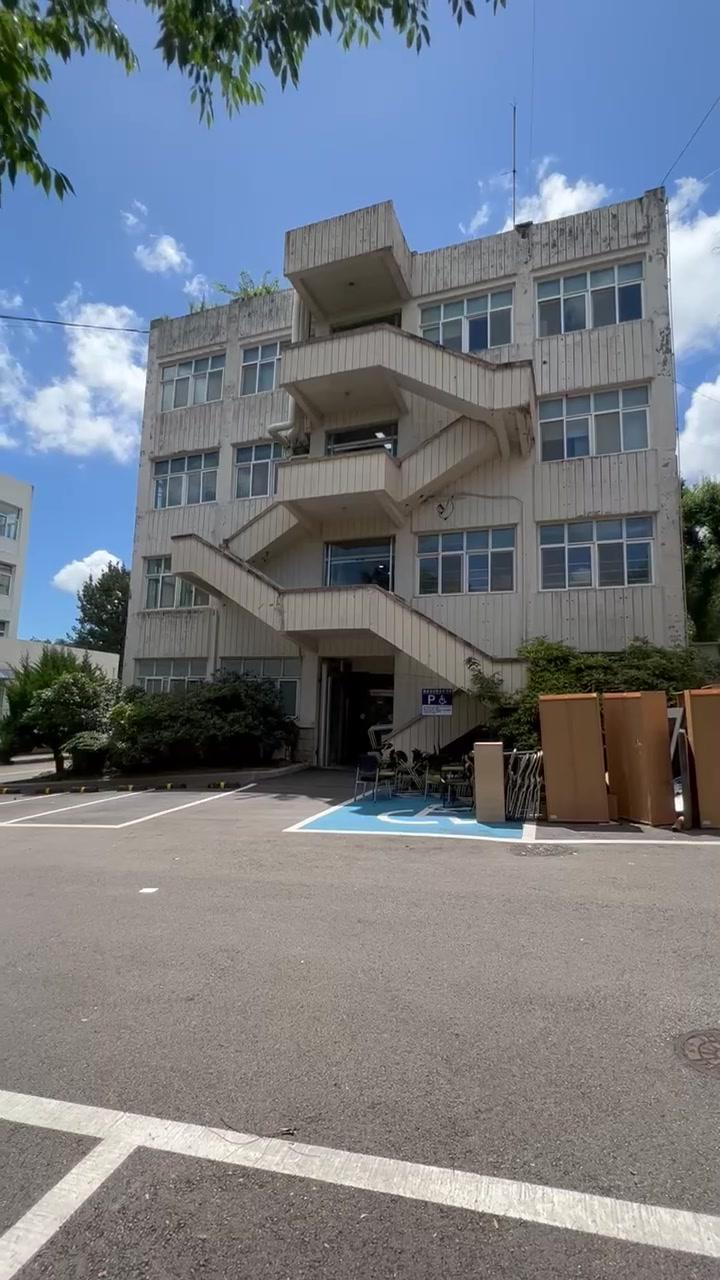building: (108, 196, 700, 652)
